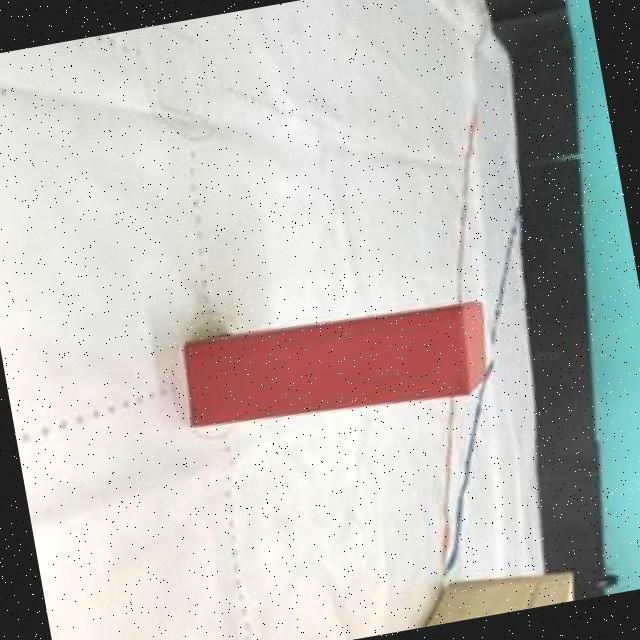redbox: (175, 291, 500, 444)
